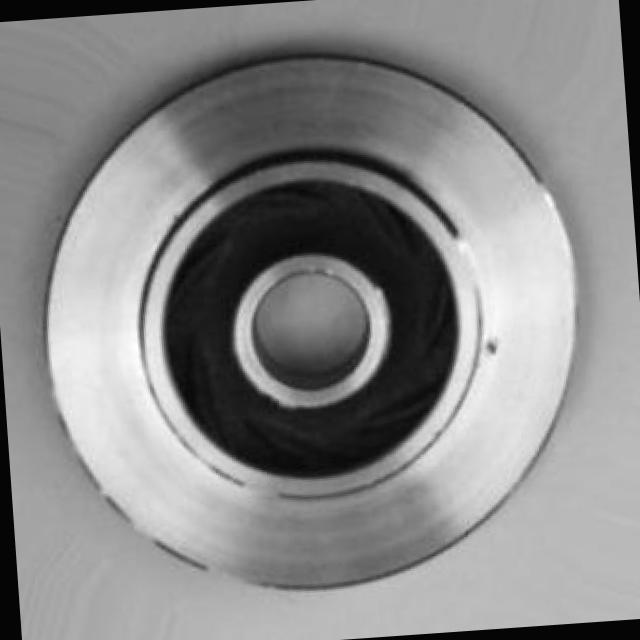Defect: (472, 329, 509, 368)
